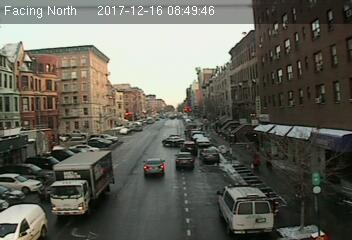car: (1, 203, 48, 240), (142, 157, 165, 175), (175, 152, 193, 168), (200, 149, 220, 163), (181, 141, 197, 154)
police: (215, 182, 277, 236)
truck: (50, 149, 115, 217)
